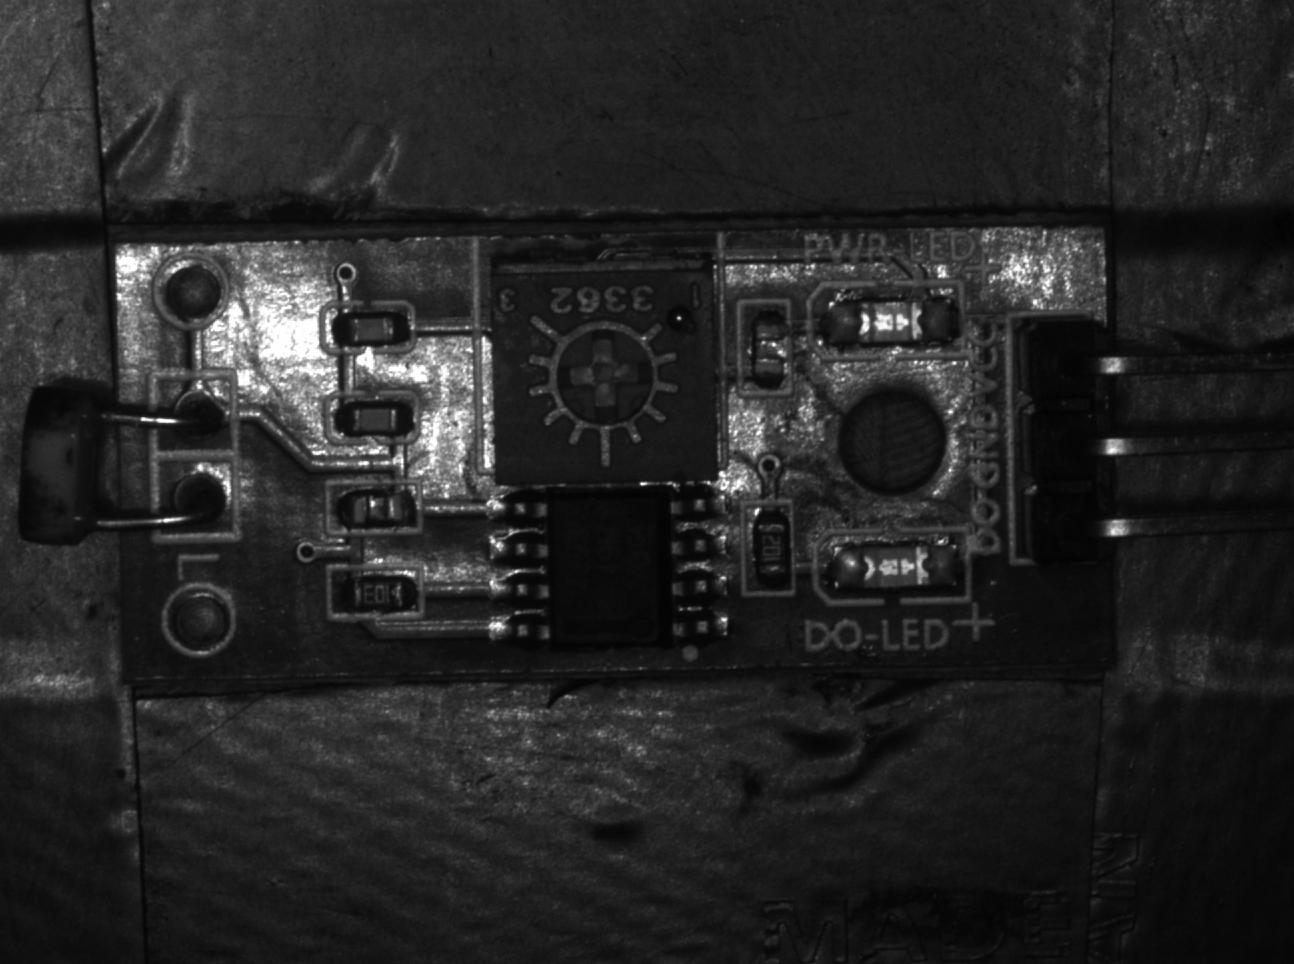miss: (326, 480, 424, 533), (739, 301, 791, 400)
ok: (328, 565, 425, 621), (325, 391, 420, 448), (741, 501, 796, 596), (318, 305, 416, 356)
